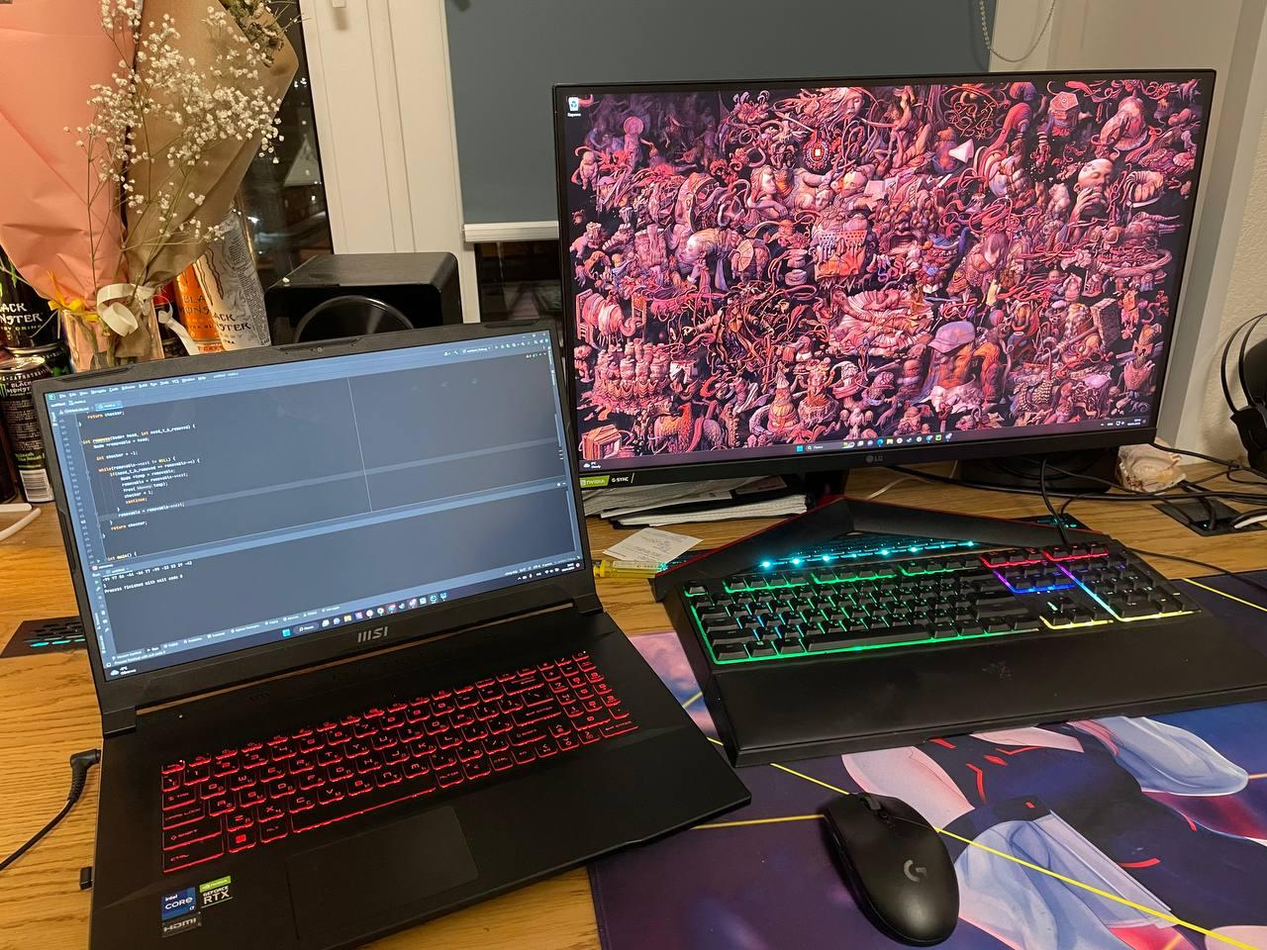monitor: (547, 68, 1222, 505), (37, 312, 595, 718)
